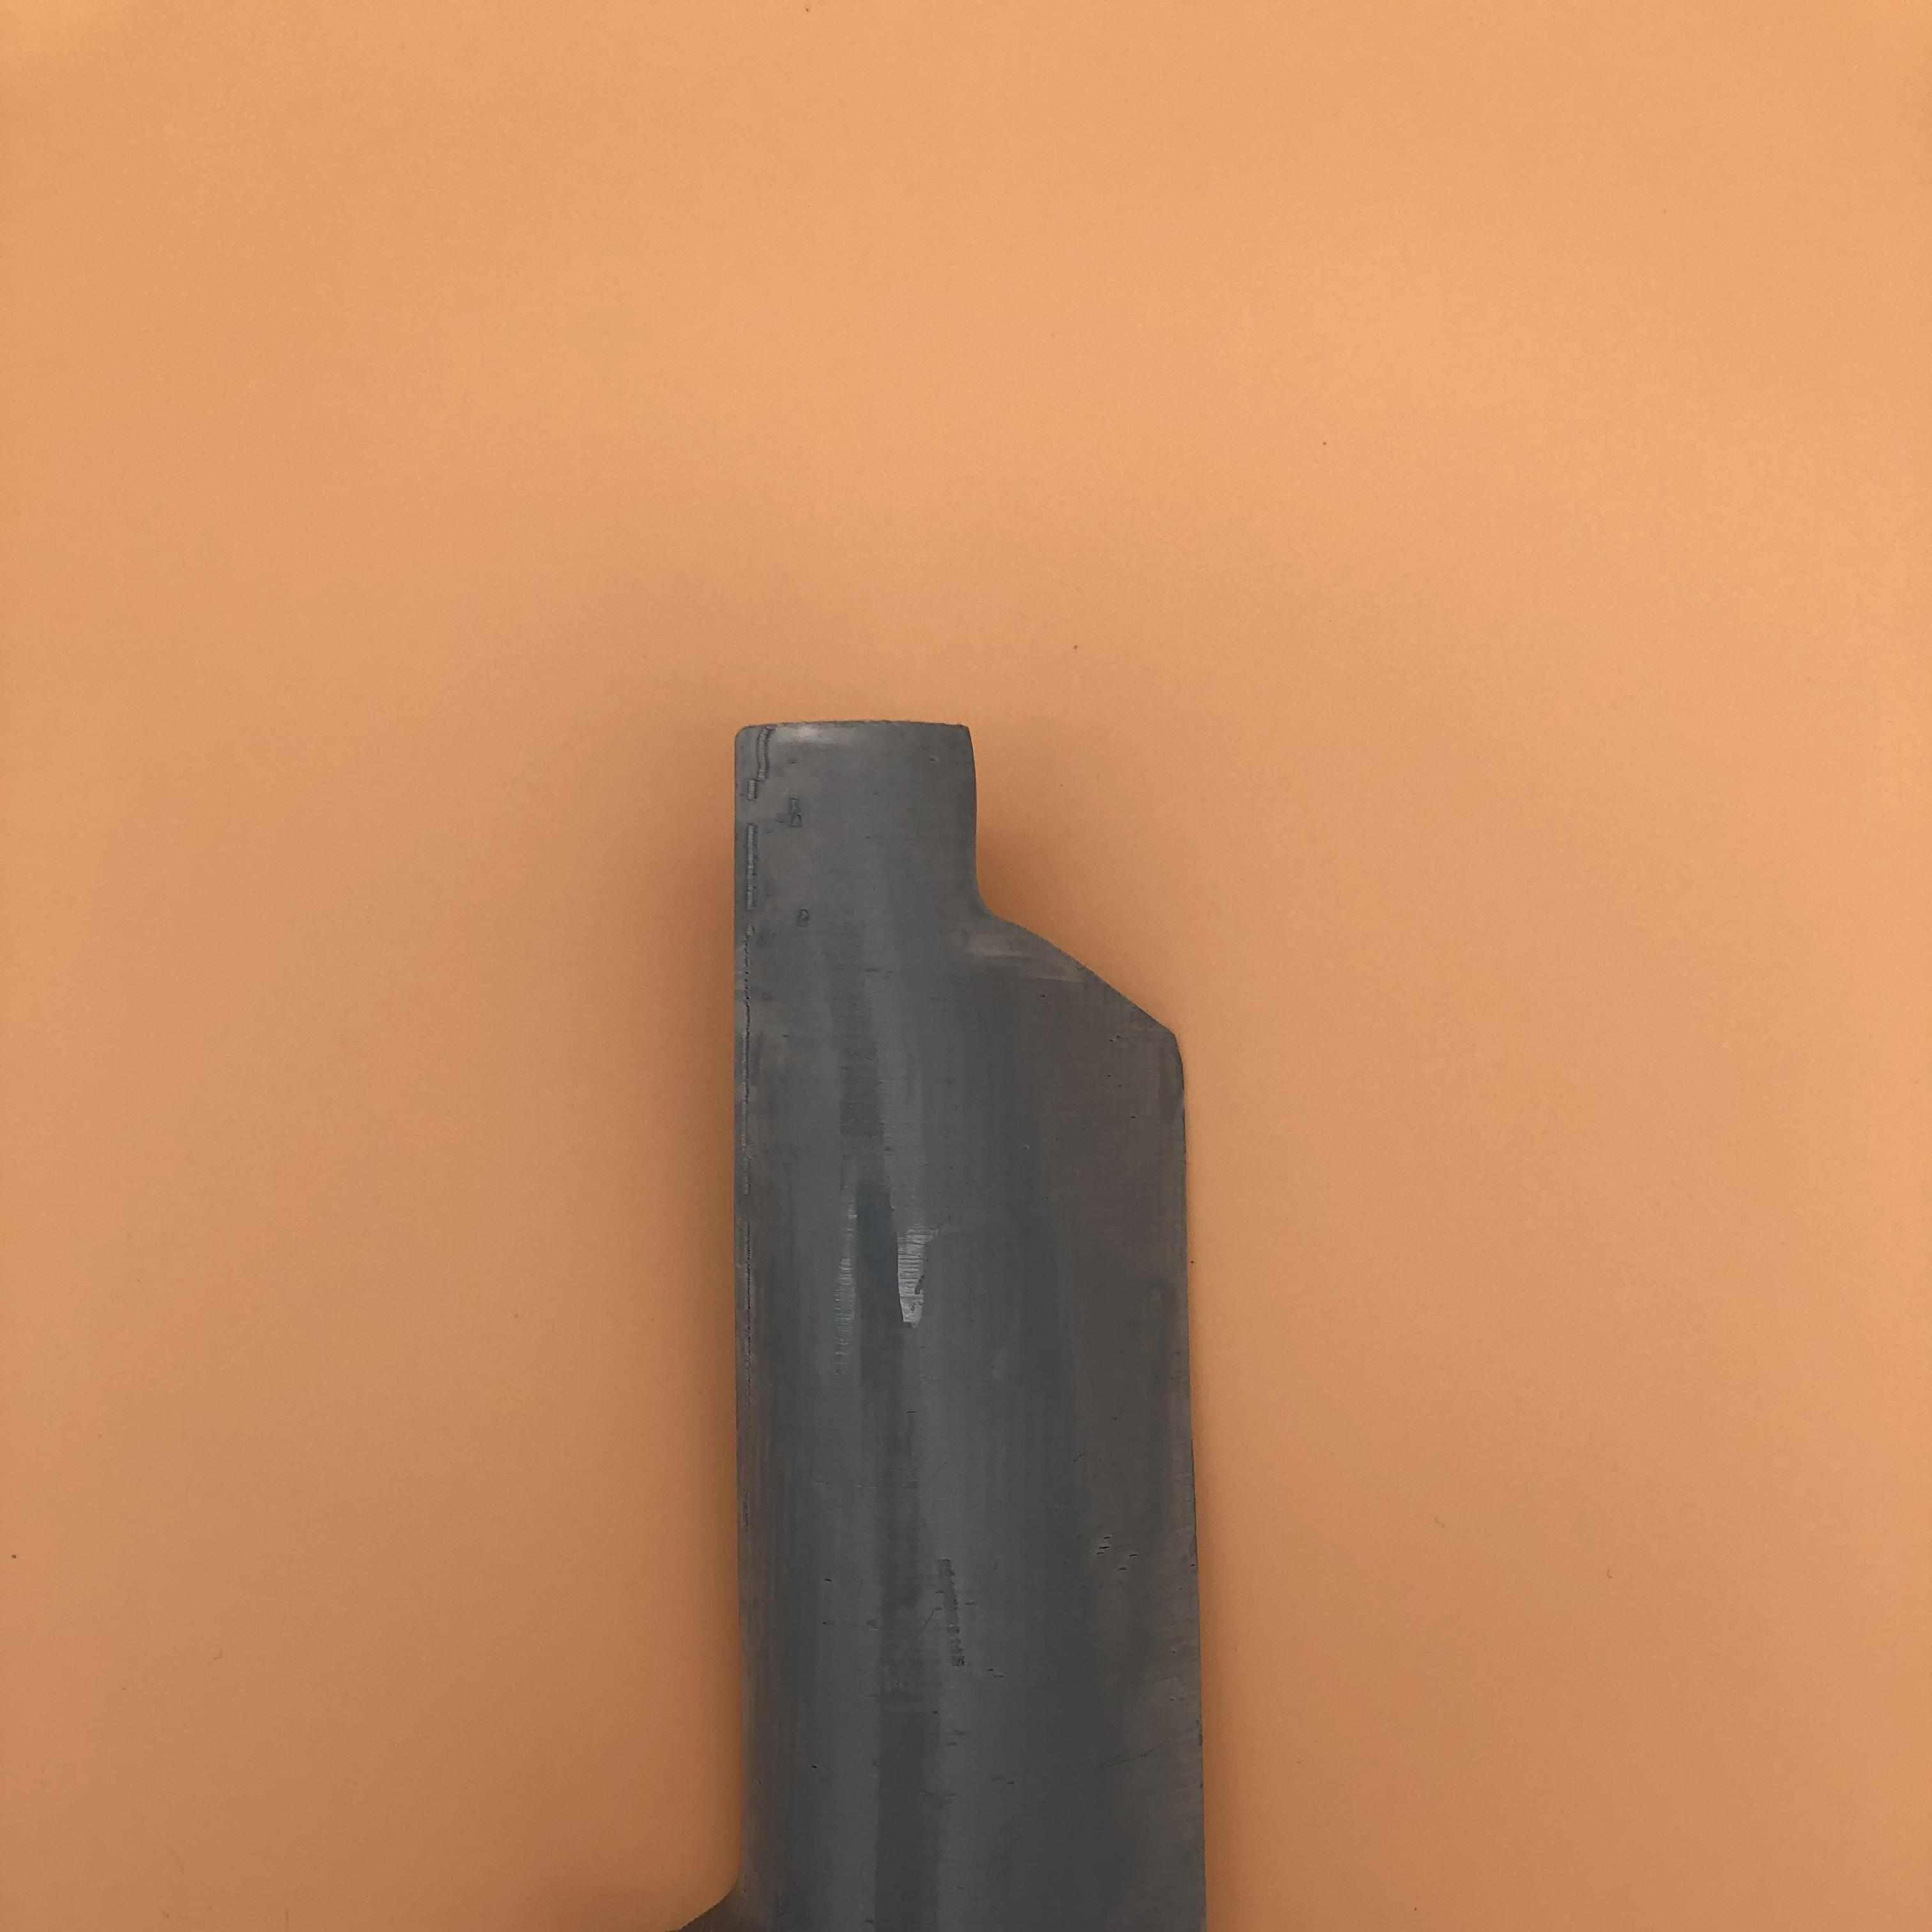fracture: (950, 745, 1173, 1051)
